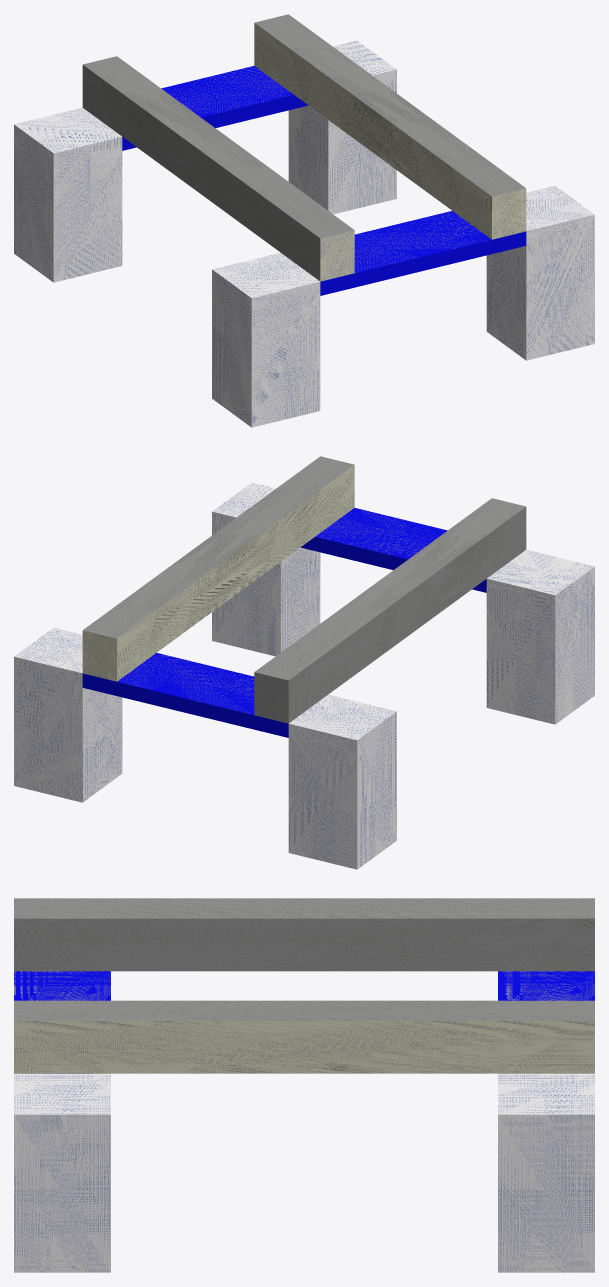
File: chassis_collision.dae
3 renders of one model, top to bottom at view 1: azimuth 30°, elevation 25°; view 2: azimuth 150°, elevation 25°; view 3: azimuth 270°, elevation 25°, orthographic. The views are drawn at different scales.
Parts seen in each view (by area): view 1: chassis_collisions (×12); view 2: chassis_collisions (×12); view 3: chassis_collisions (×7).
Boxes of the visible parts, x1=… form: chassis_collisions (×12): x1=14, y1=14, x2=594, y2=427; chassis_collisions (×12): x1=14, y1=456, x2=594, y2=869; chassis_collisions (×7): x1=14, y1=898, x2=594, y2=1272.
Size of the model in its own units: 3.15 by 3.78 by 1.51.
